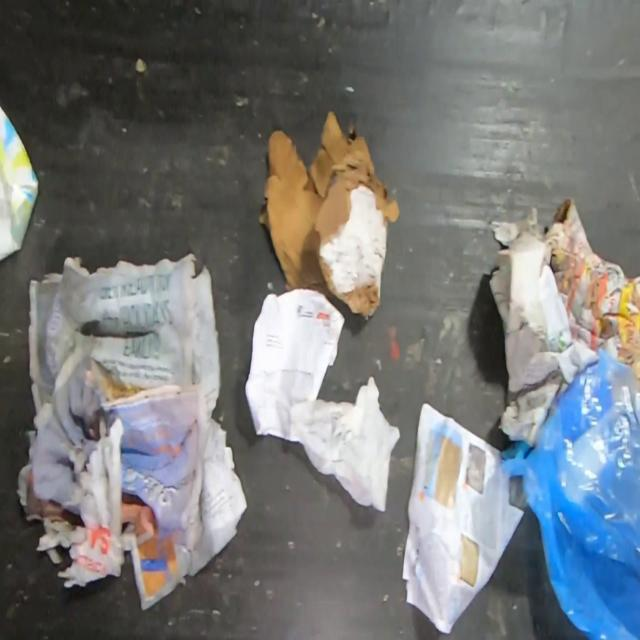cardboard: (258, 110, 400, 321), (489, 206, 596, 444), (0, 106, 39, 262)
soft_plastic: (500, 348, 640, 640)
